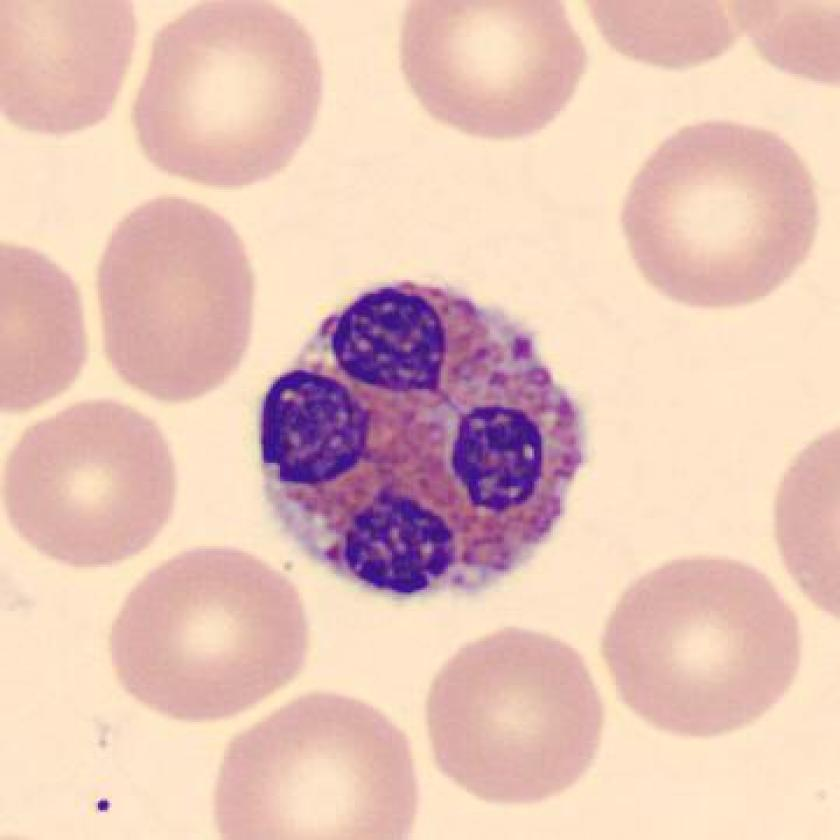eosinophil: (241, 262, 601, 612)
